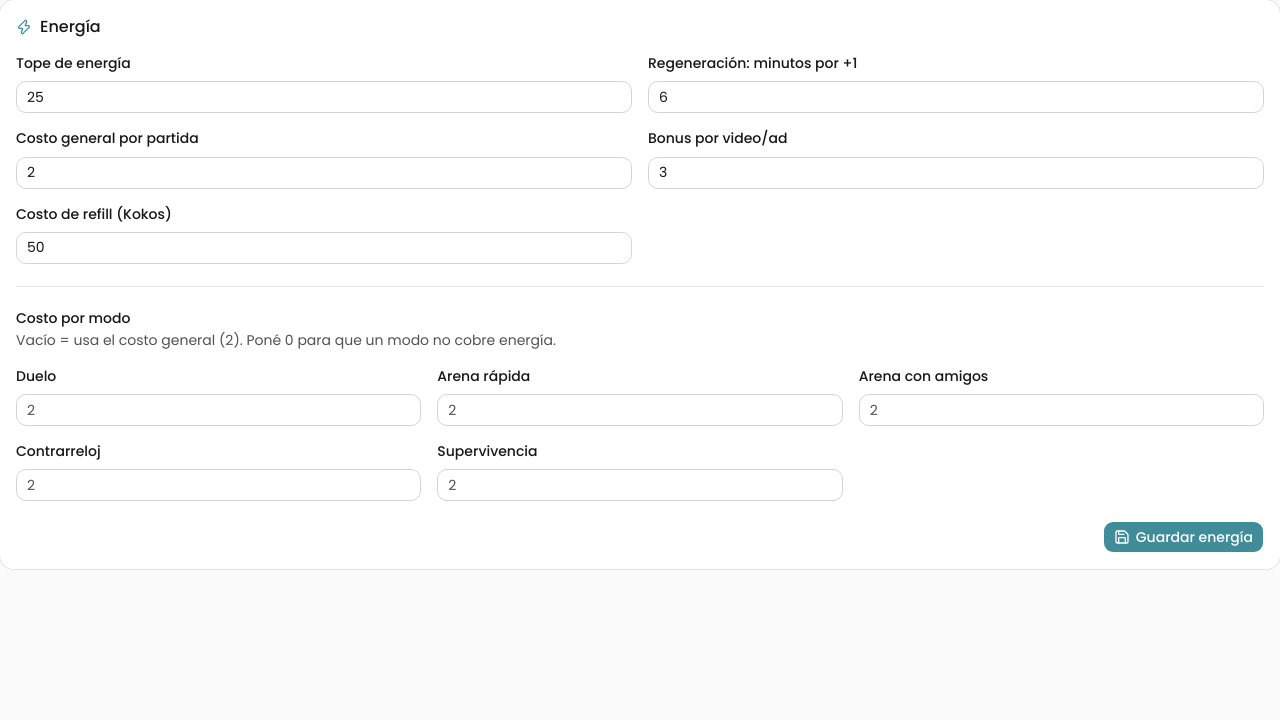
Test case: EnergyConfigForm — costo por modo › vaciar un campo obligatorio muestra el mensaje del panel, en español
The width and height of the screenshot is (1280, 720).
Clear the number field labelled "Tope de energía" at (324, 97), box [16, 81, 632, 113]
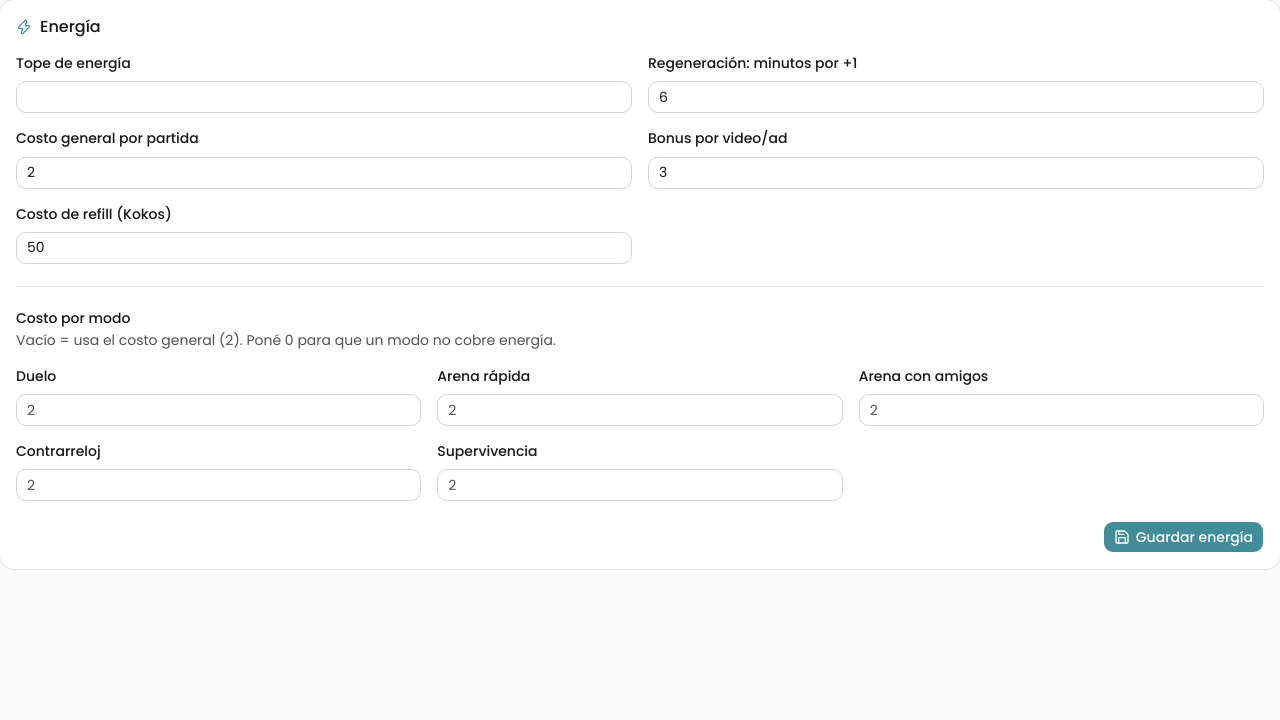
Click the button "Guardar energía" at (1183, 537), box [1103, 521, 1264, 553]
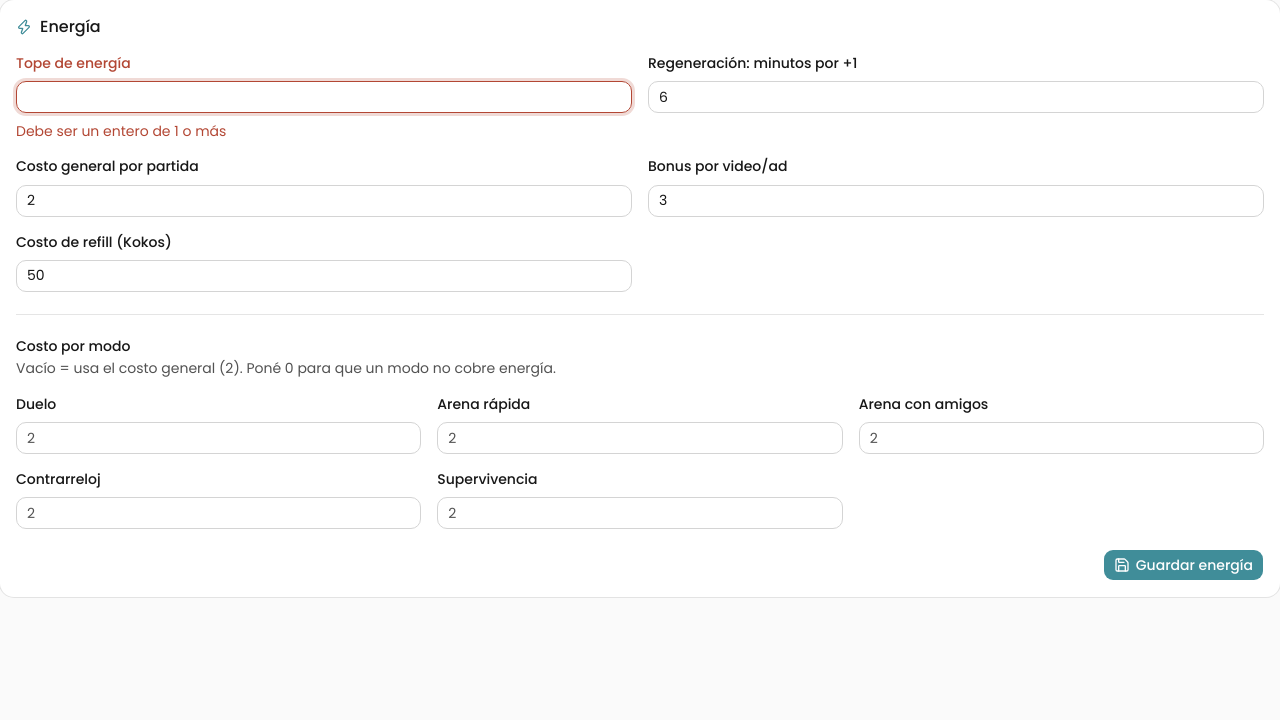
Now the text "Debe ser un entero de 1 o más" is shown, box [16, 121, 226, 141]
